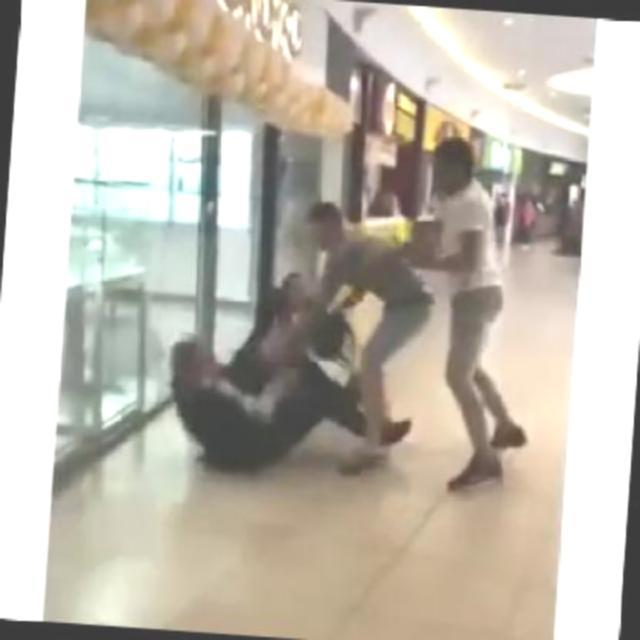fight: (162, 190, 440, 486)
non-fight: (401, 130, 550, 496)
